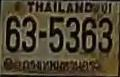3: (21, 15, 36, 51), (65, 17, 79, 52), (98, 17, 112, 52)
5: (48, 16, 64, 52)
6: (81, 16, 96, 52), (6, 15, 20, 51)
BKK: (21, 57, 97, 76)
